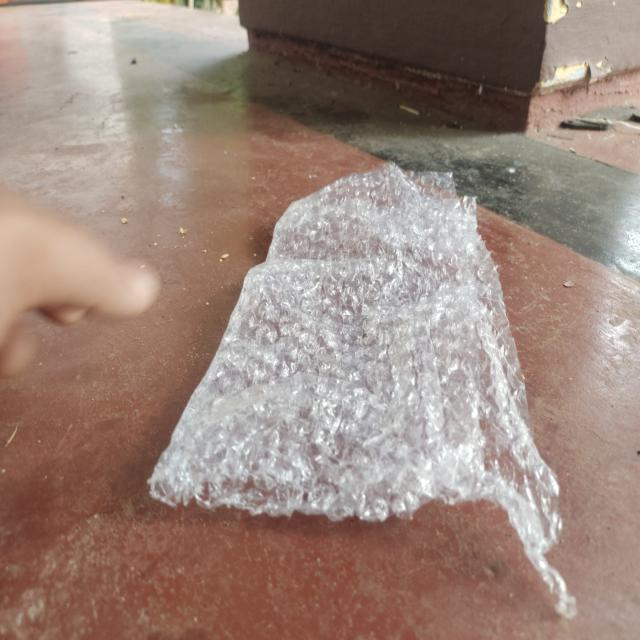plastic: (154, 161, 574, 610)
